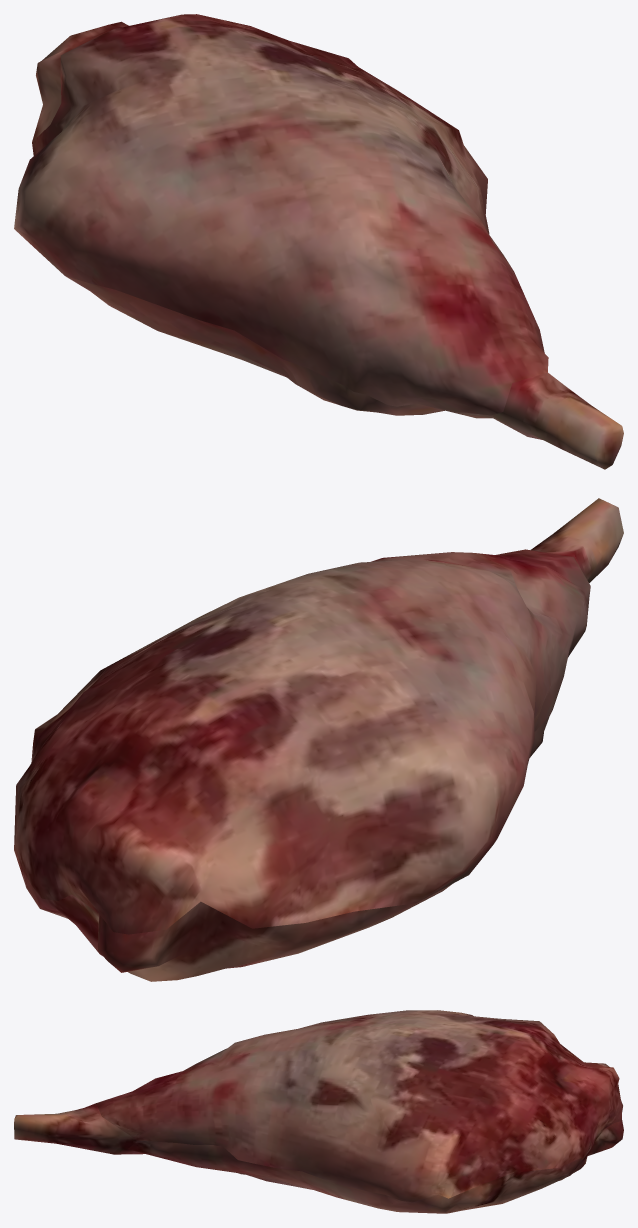
File: meet.horse.burned.worldmodel.glb
3 renders of one model, top to bottom at view 1: azimuth 30°, elevation 25°; view 2: azimuth 150°, elevation 25°; view 3: azimuth 270°, elevation 25°, orthographic. The views are drawn at different scales.
Parts seen in each view (by area): view 1: horse_meat_LOD0; view 2: horse_meat_LOD0; view 3: horse_meat_LOD0.
Part boxes in pixels (x1,y1,x2,y2): horse_meat_LOD0: (14, 14, 623, 469); horse_meat_LOD0: (14, 498, 623, 981); horse_meat_LOD0: (14, 1010, 623, 1213).
Bounding box in the file's own units: 0.2865 × 0.1571 × 0.5741.
1 material, 1 textured.
